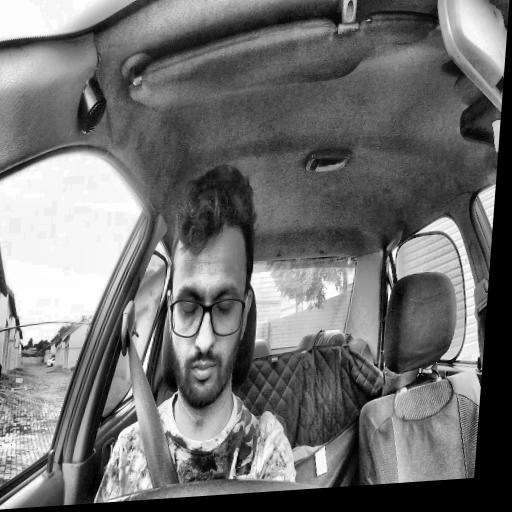drowsy: (158, 160, 264, 412)
